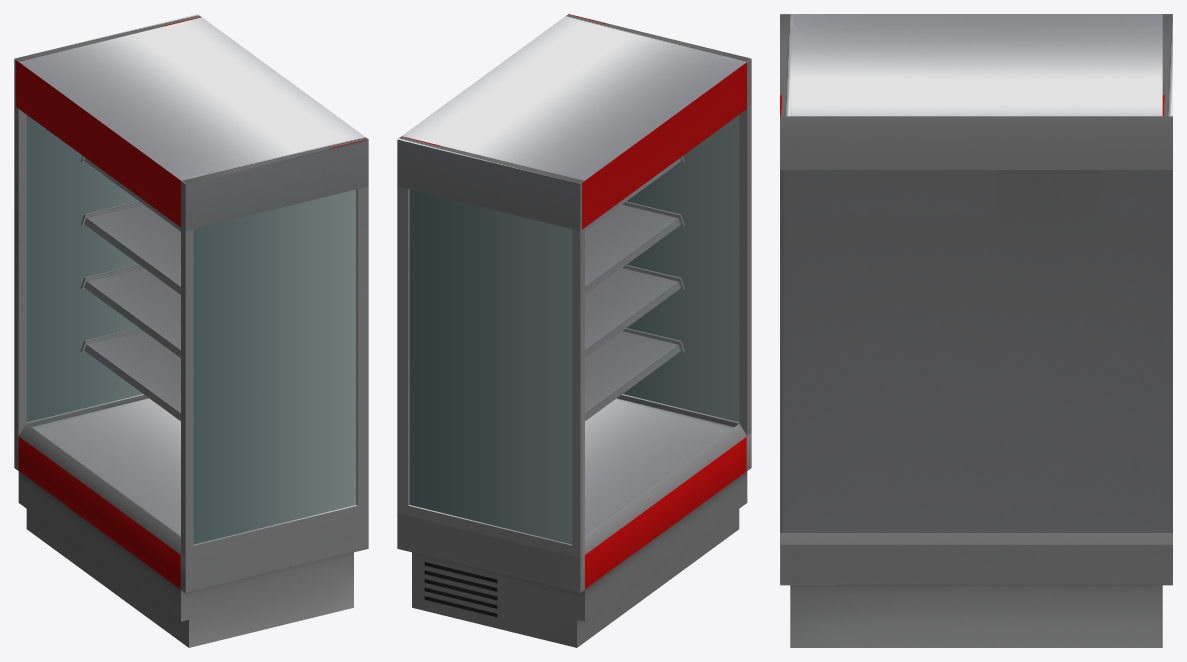
File: sp_refrigerated_1.FBX
3 renders of one model, left to right at view 1: azimuth 30°, elevation 25°; view 2: azimuth 150°, elevation 25°; view 3: azimuth 270°, elevation 25°, orthographic. The views are drawn at different scales.
Parts seen in each view (by area): view 1: sp_refrigerated_1; view 2: sp_refrigerated_1; view 3: sp_refrigerated_1.
Boxes of the visible parts, x1,y1,x2,y2 form: sp_refrigerated_1: (14,14,368,647); sp_refrigerated_1: (397,14,751,647); sp_refrigerated_1: (780,14,1172,647).
Bounding box in the file's own units: 32.17 × 52.17 × 78.74.
